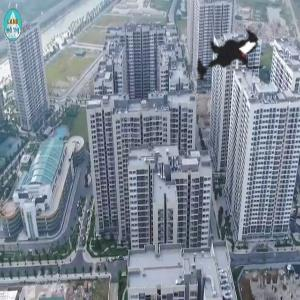drone: (173, 5, 289, 121)
